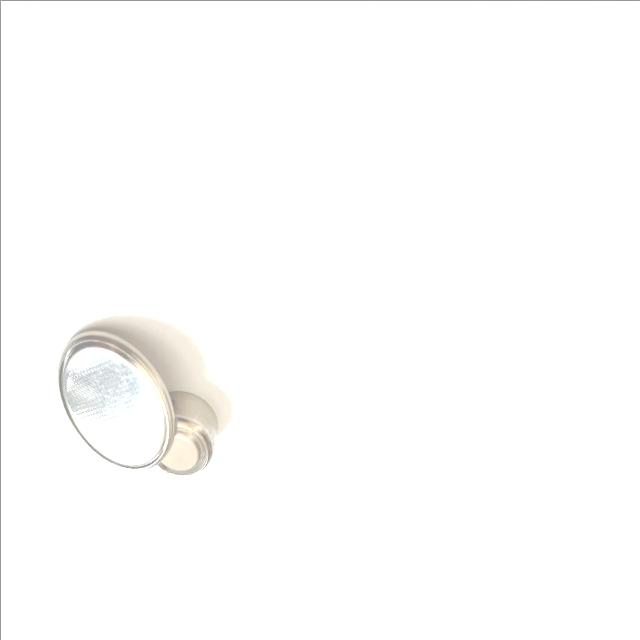COIN: (57, 327, 173, 468), (152, 390, 217, 476)
